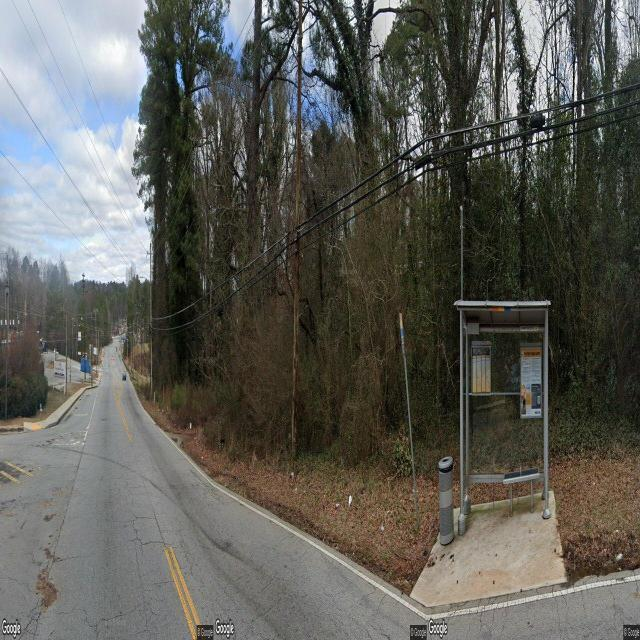seating: (502, 466, 540, 518)
shelter: (452, 298, 550, 530)
trash_can: (438, 456, 454, 546)
